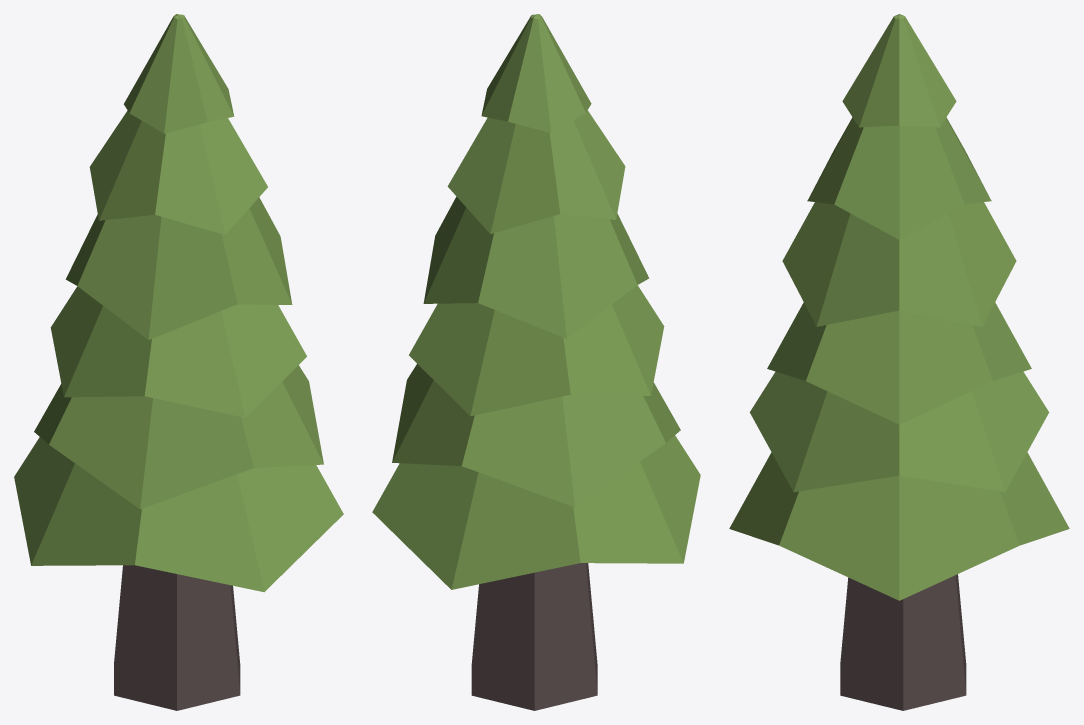
Rendered from Elka.fbx.
3 views of the same model, side by side, from view 1: azimuth 30°, elevation 25°; view 2: azimuth 150°, elevation 25°; view 3: azimuth 270°, elevation 25° (orthographic).
Visible parts, largest first — view 1: Elka; view 2: Elka; view 3: Elka.
Part boxes in pixels (x1=…): Elka: x1=14, y1=14, x2=343, y2=710; Elka: x1=372, y1=14, x2=700, y2=710; Elka: x1=729, y1=14, x2=1069, y2=710.
Bounding box in the file's own units: 2.7 × 5.81 × 2.7.
